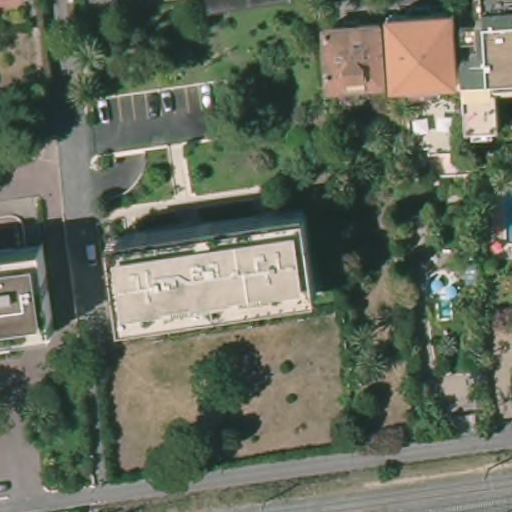pool: (433, 294, 459, 323)
